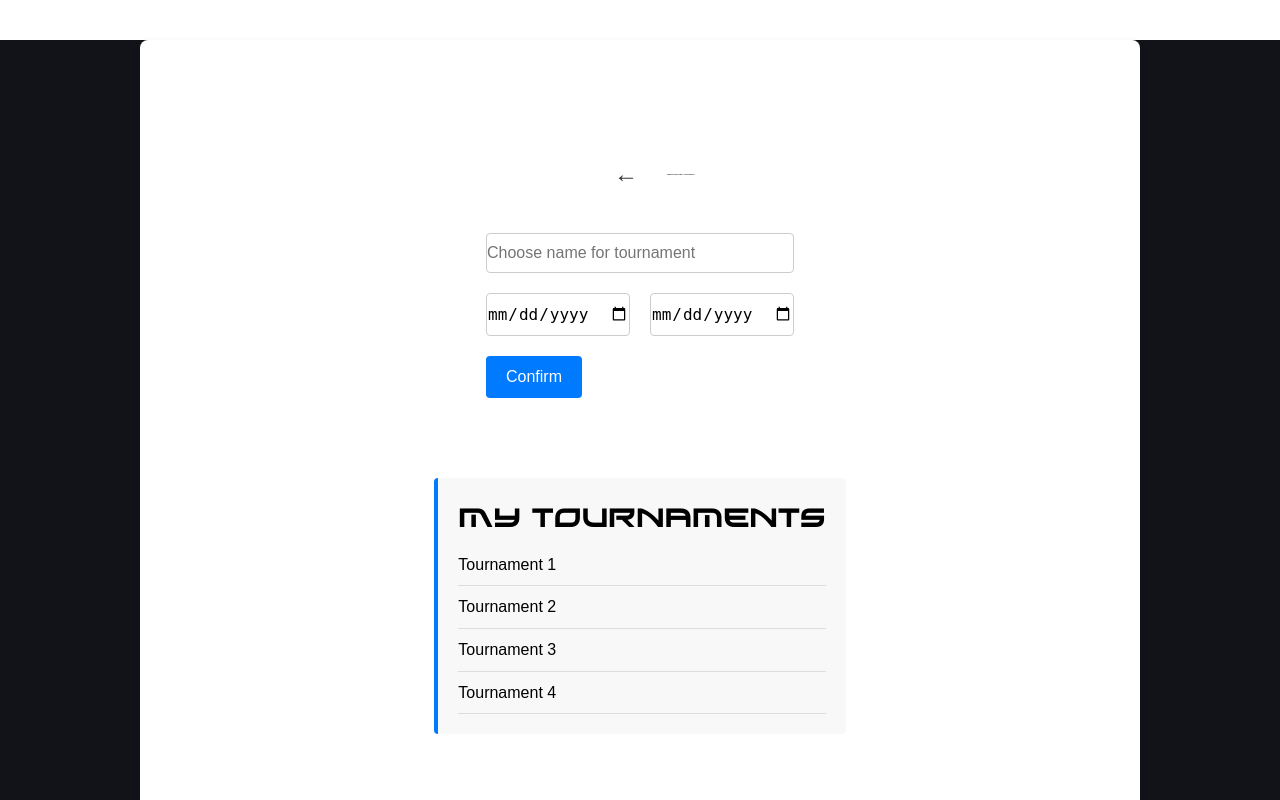
CreateTournament - BDD style › Givet at startdato er i fortiden, vises en fejlbesked
The image size is (1280, 800).
Type "Historisk Cup" into the field with placeholder "Choose name for tournament" at (640, 252), box top-left (486, 232), bottom-right (794, 272)
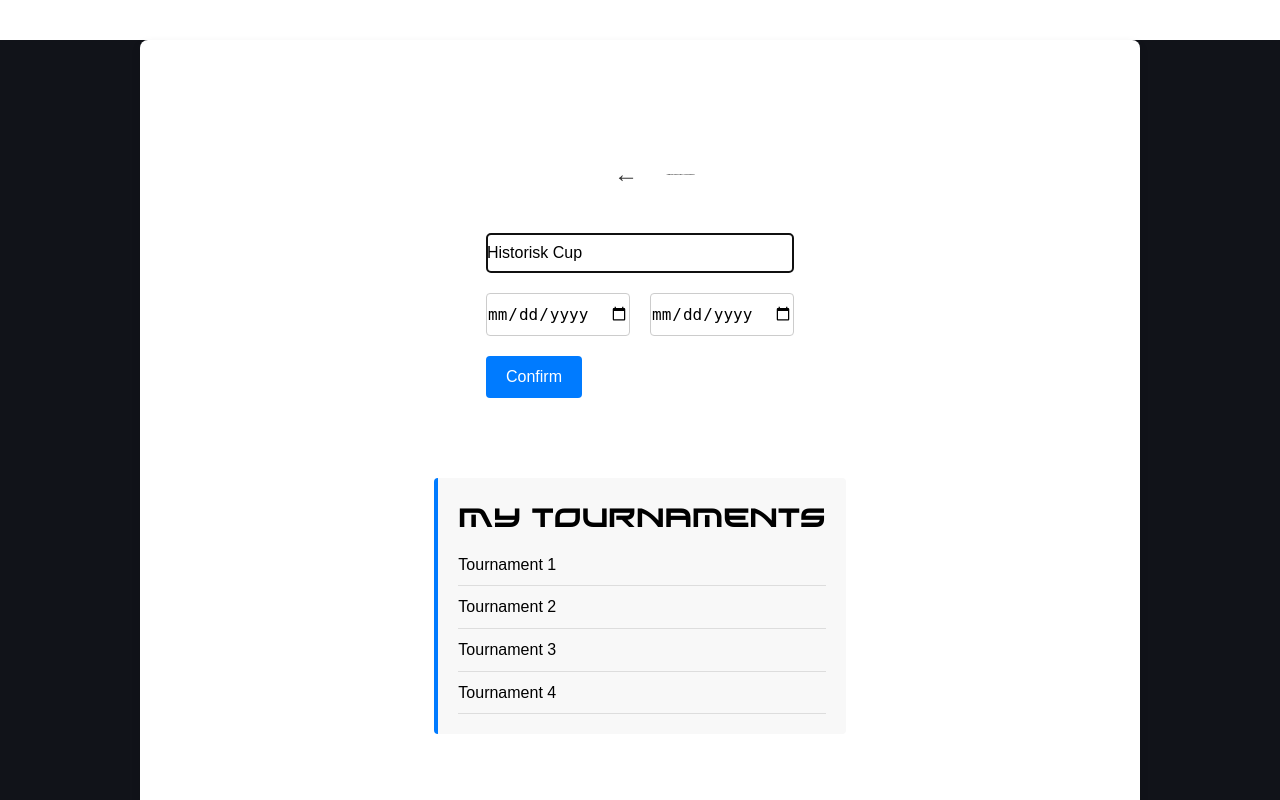
Type "2000-01-01" into the 1st date field at (558, 314), box top-left (486, 292), bottom-right (630, 336)
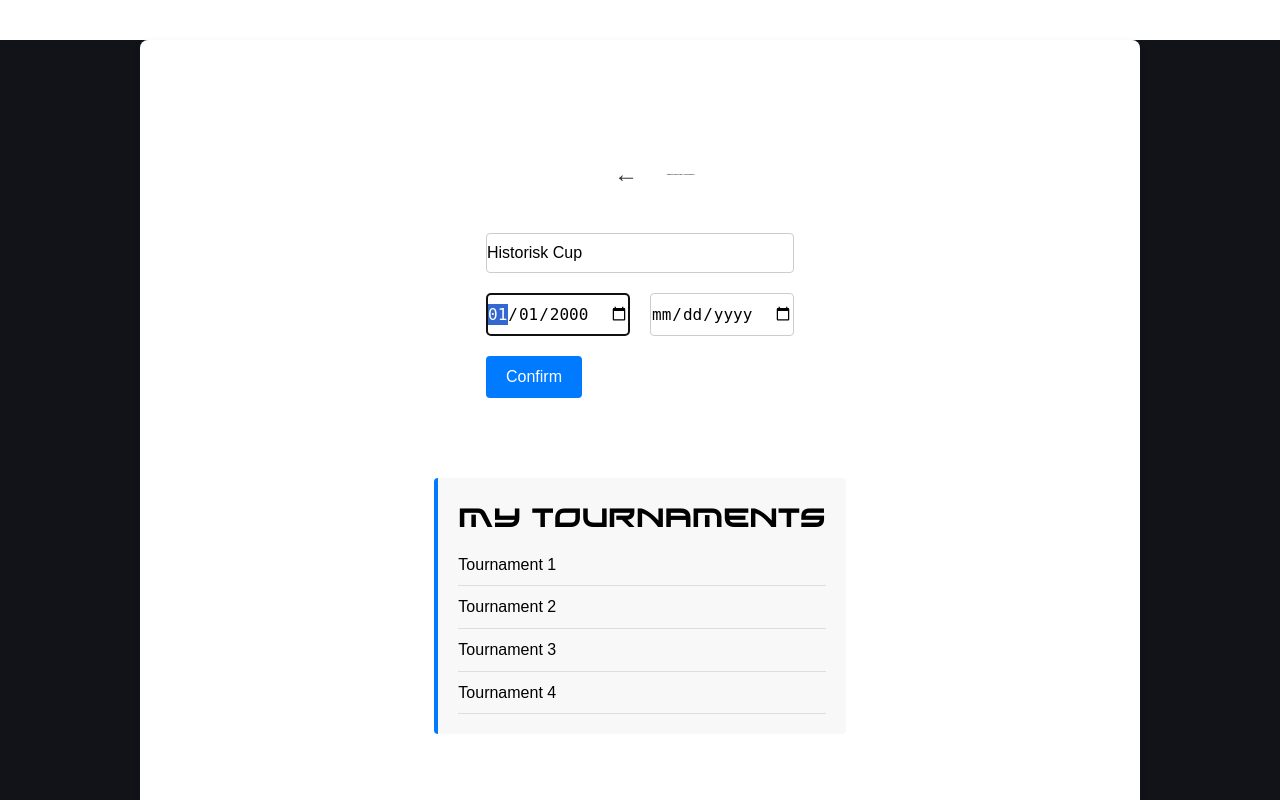
Type "2025-06-10" into the 2nd date field at (722, 314), box top-left (650, 292), bottom-right (794, 336)
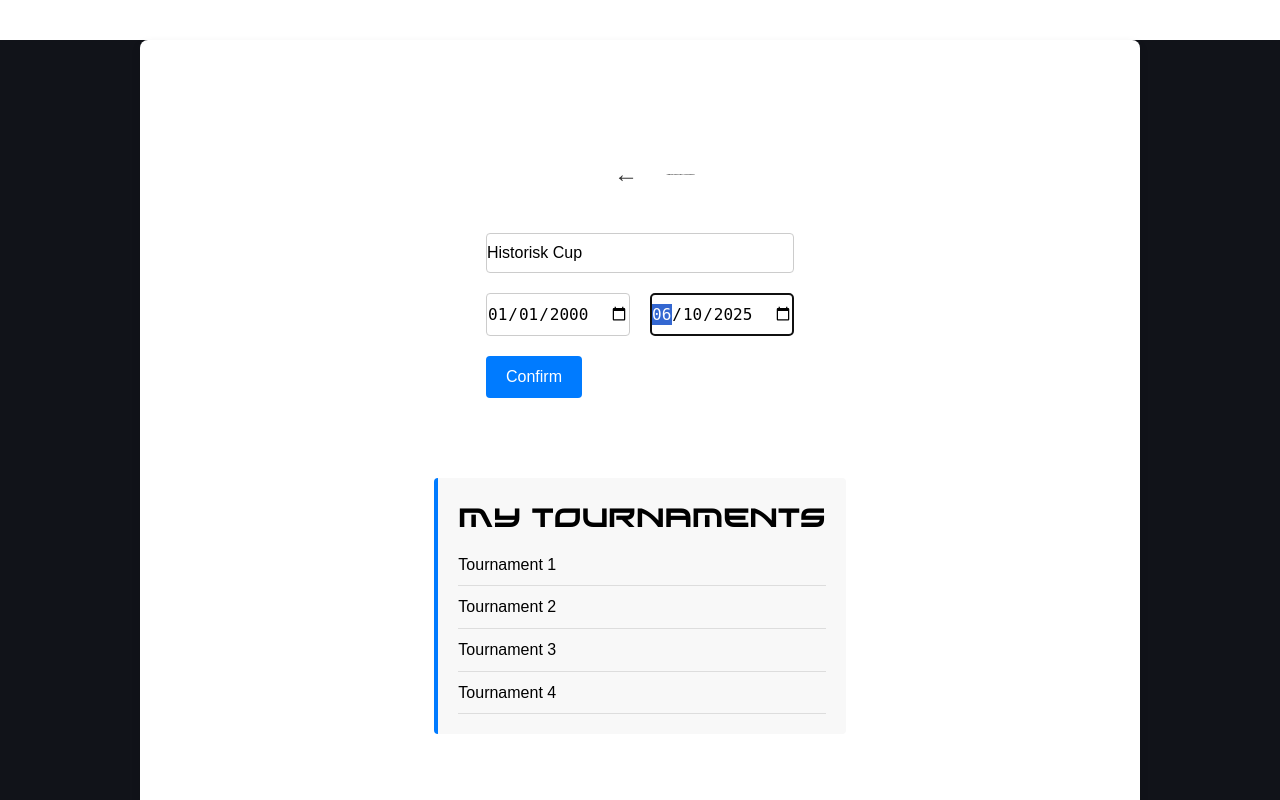
Click the button "Confirm" at (534, 376), box top-left (486, 356), bottom-right (582, 398)
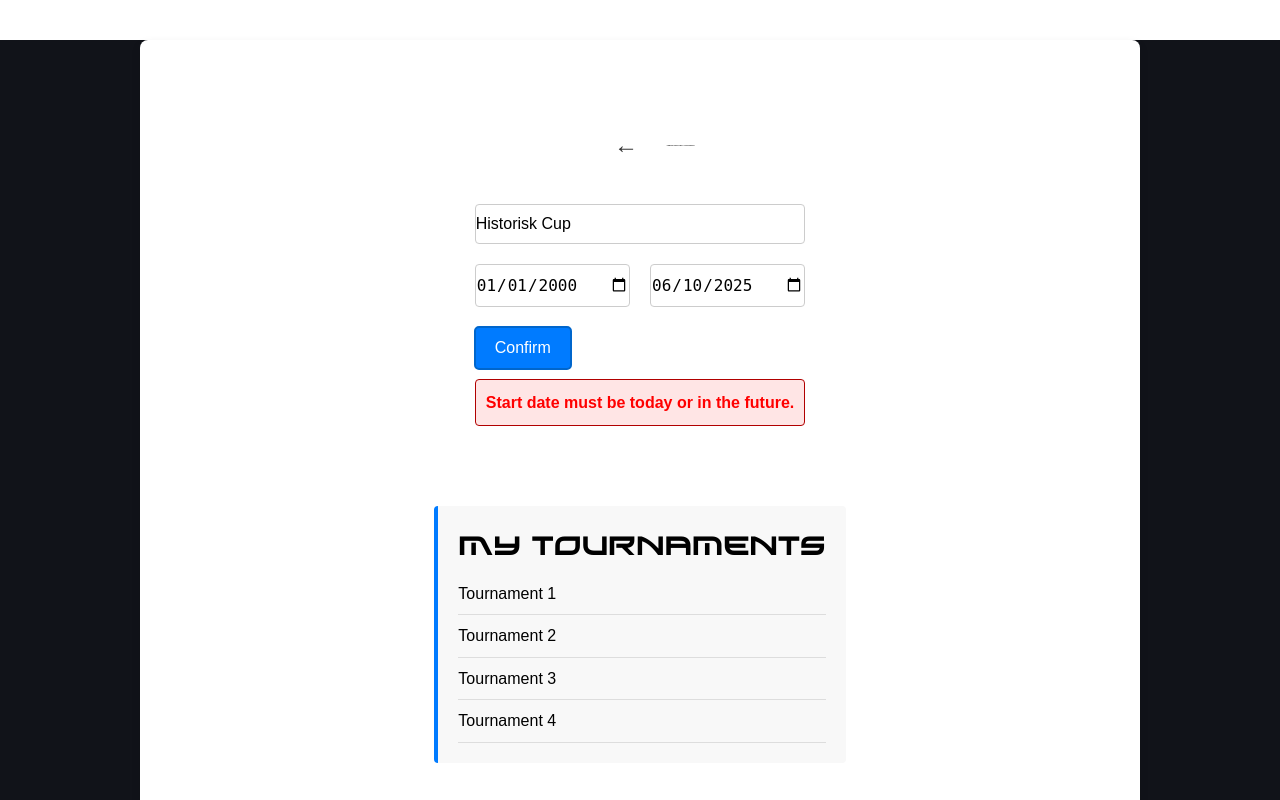
Result: the text "Start date must be today or in the future." is shown at top-left (475, 379), bottom-right (805, 426)
